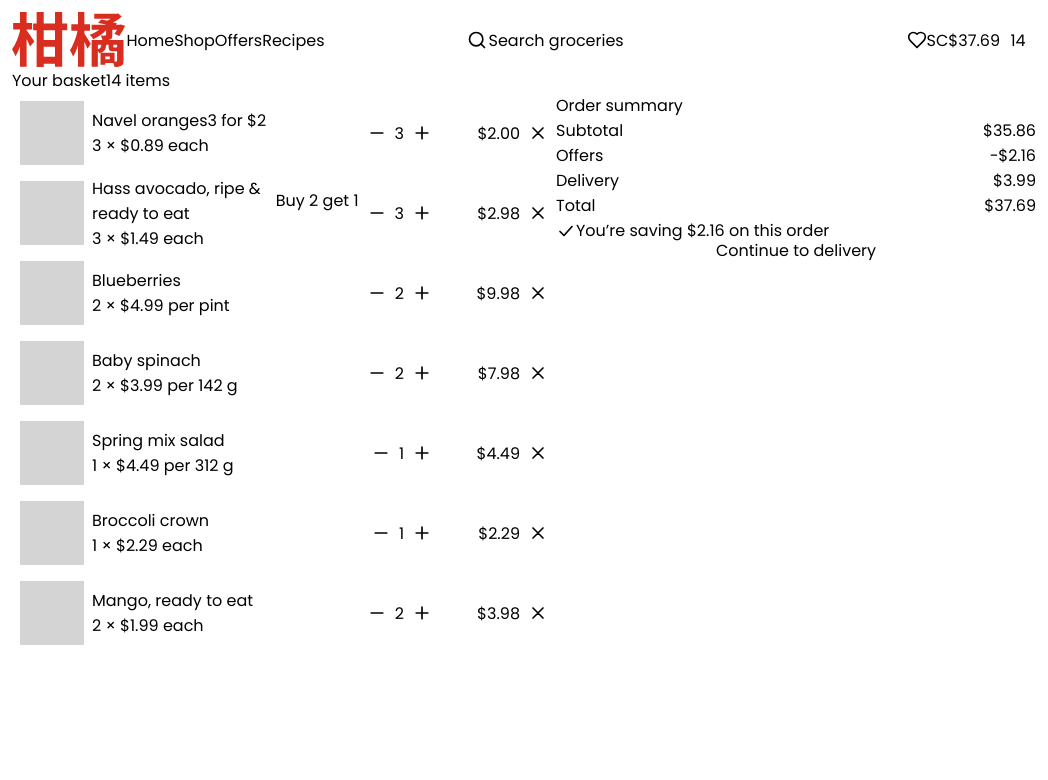
Test: the published screens › changes, removes and re-totals Clementine basket lines
The width and height of the screenshot is (1048, 780).
Expected: the text "14 items" is shown, top-left (106, 68), bottom-right (170, 93)
What coordinates should you click on to do the following:
click the button named "Decrease" in the row of "Navel oranges"
I would click on:
 (377, 133)
Its box is top-left (359, 115), bottom-right (395, 151).
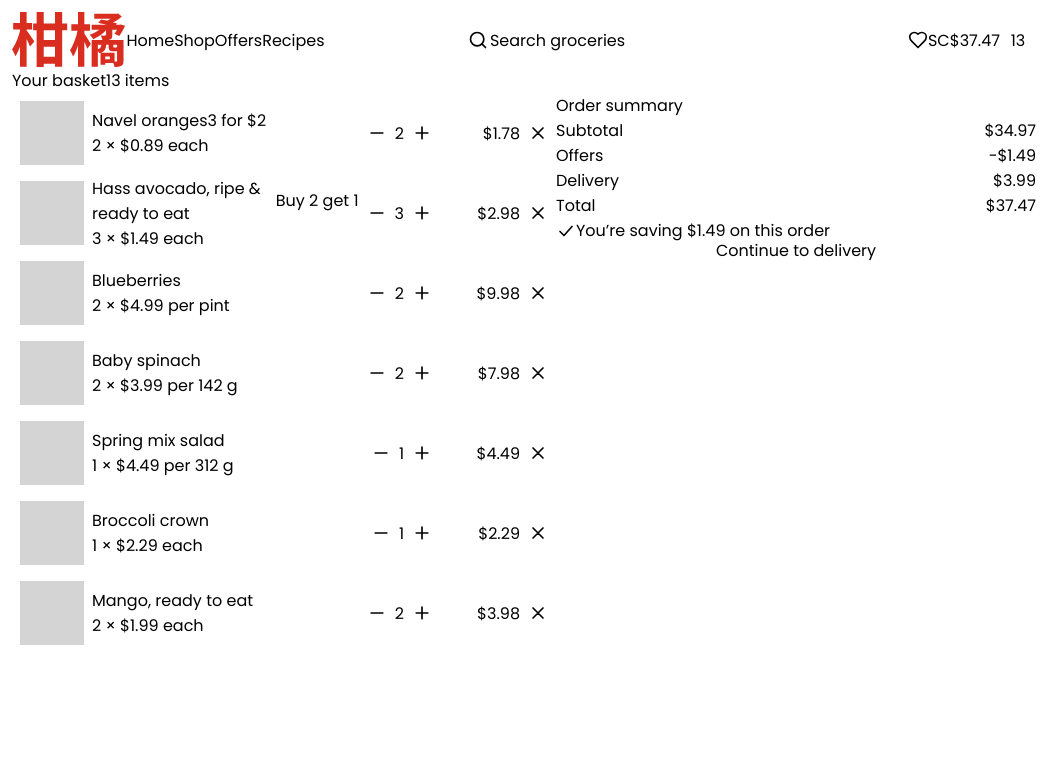
Expected: the text "13 items" is shown, top-left (106, 68), bottom-right (169, 93)
What coordinates should you click on to do the following:
click the button named "Remove Mango, ready to eat"
I would click on:
 (538, 613)
Its box is top-left (520, 595), bottom-right (556, 631).
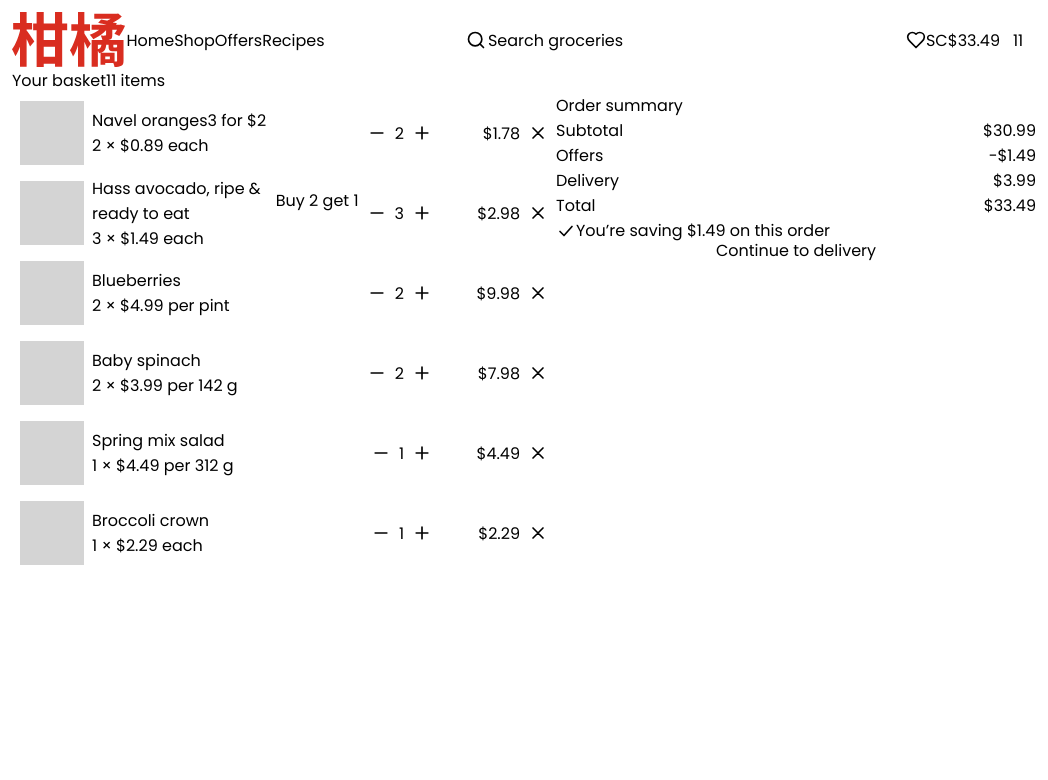
Expected: the text "You’re saving $1.49 on this order" is shown, top-left (556, 219), bottom-right (830, 242)
Expected: the text "11 items" is shown, top-left (106, 68), bottom-right (165, 93)
